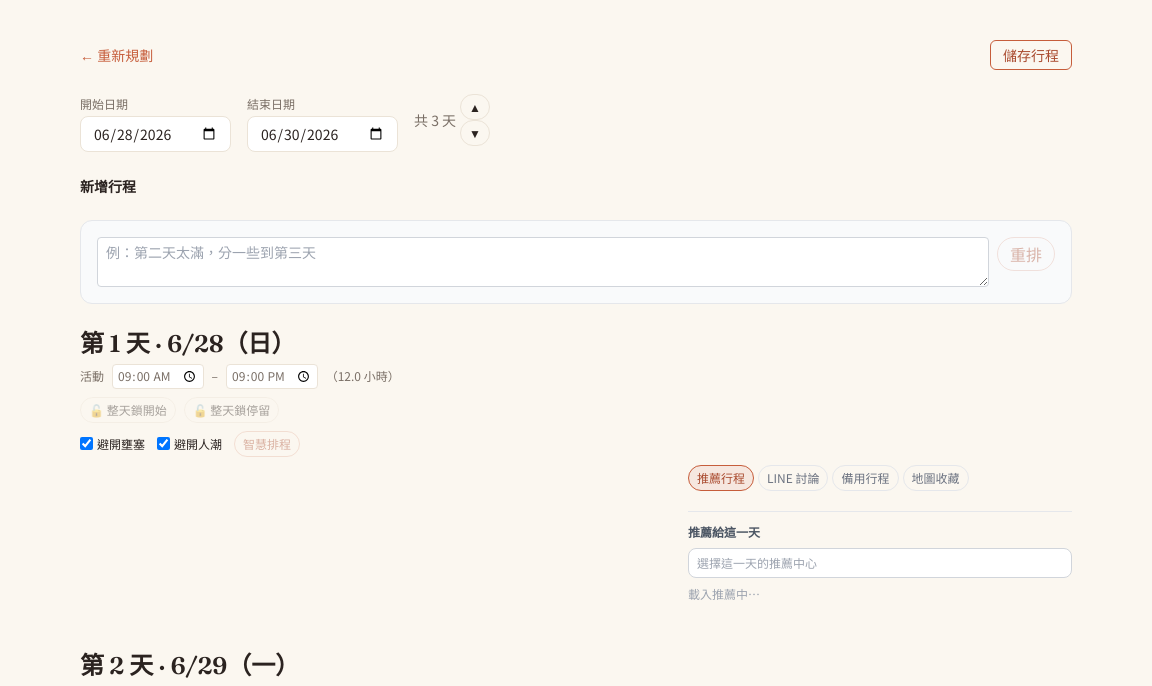
Test: clicking ▲ after a pending shrink cancels it instead of growing past the real day count
This screenshot has width=1152, height=686.
Click the button with test id "day-count-stepper-down". click: (475, 133)
box: [460, 120, 490, 146]
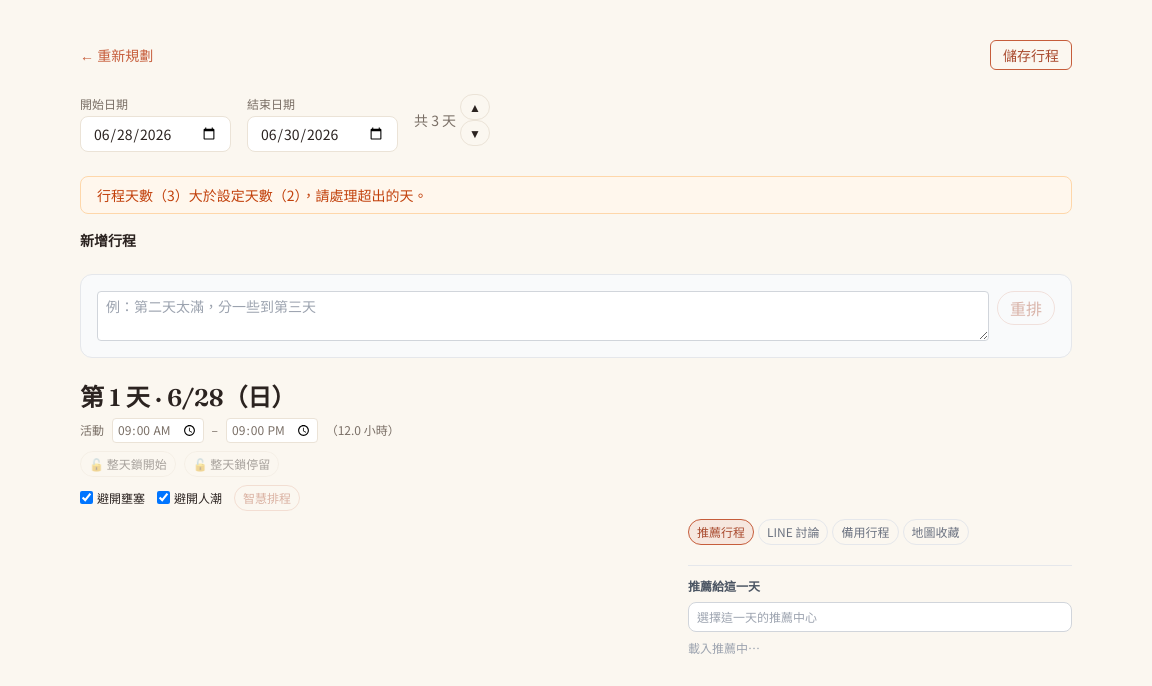
Result: the text "行程天數（3）大於設定天數（2），請處理超出的天。" is shown at [80, 176, 1072, 214]
Click the button with test id "day-count-stepper-up". click: (475, 107)
box: [460, 94, 490, 120]
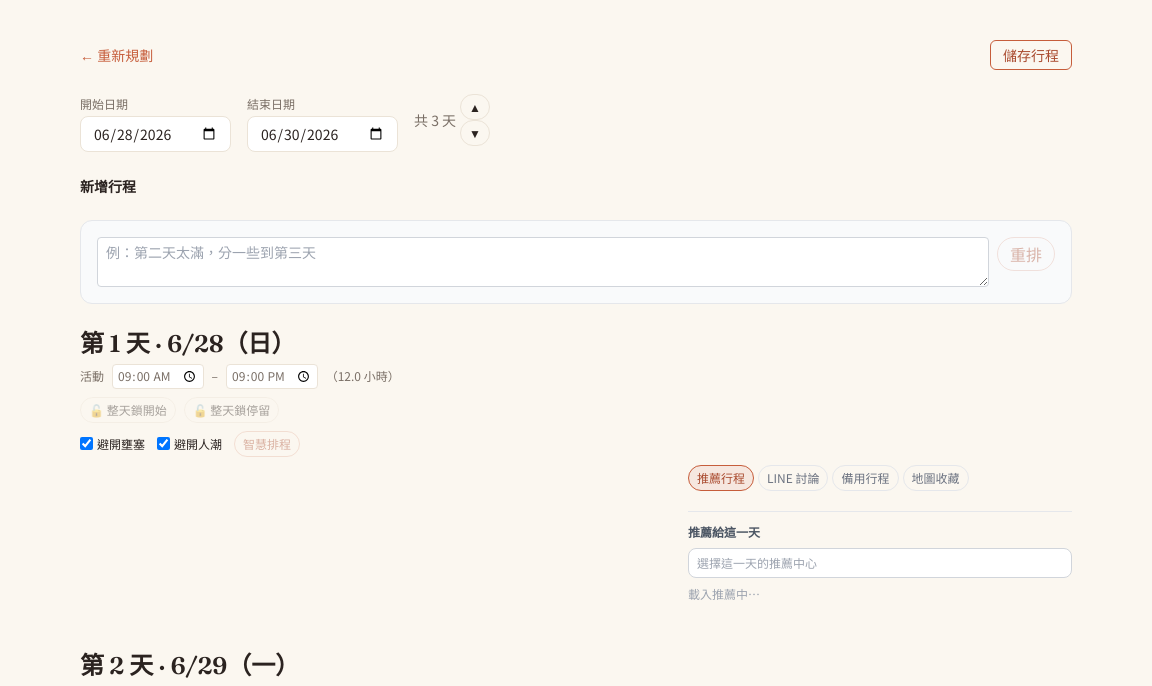
Expected: the text "共 3 天" is shown, [414, 110, 456, 130]
Result: the text "行程天數（3）大於設定天數" is gone
